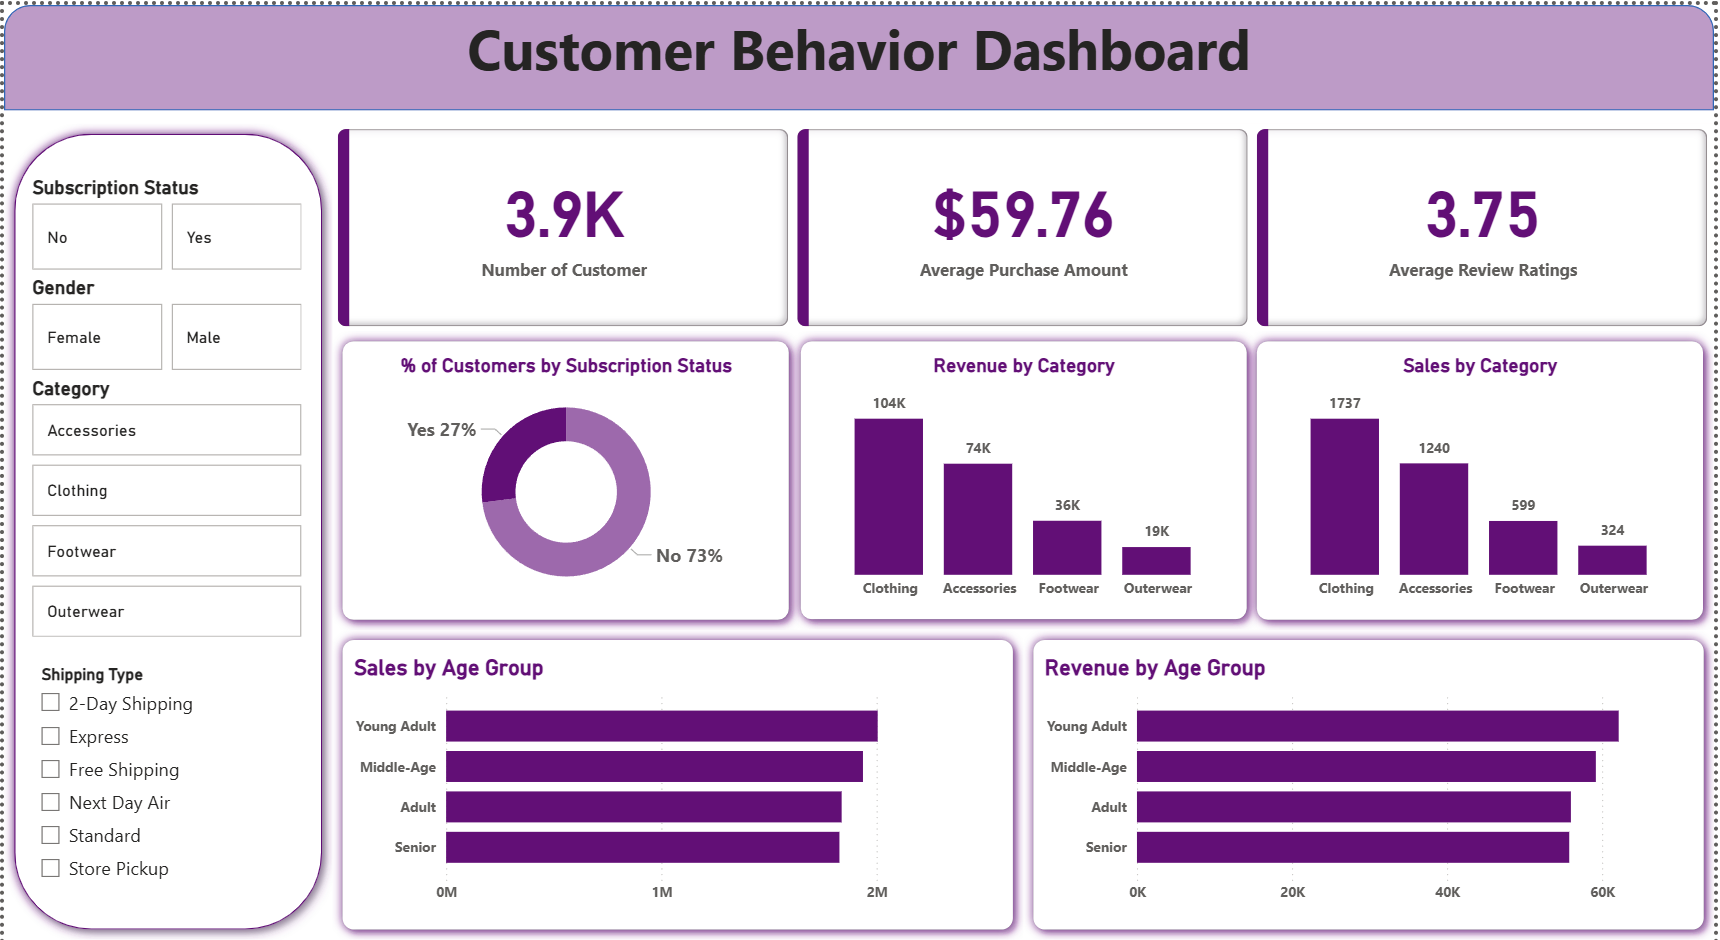

The page's visual inventory and layout, read from the dashboard file:
{"tool":"powerbi","page":{"name":"Page 1","canvas":[1500,820],"ordinal":0},"visuals":[{"type":"cardVisual","fields":{"Data":["public customer.Number of Customer","public customer.Average Purchase Amount","public customer.Average Review Ratings"]},"box":[288.7,103.8,1211.3,183],"z":0},{"type":"shape","box":[0,0,1500,92.5],"z":1},{"type":"textbox","box":[0,0,1500,79.2],"z":2},{"type":"shape","box":[288.7,286.8,409.4,262.3],"z":3},{"type":"donutChart","title":"% of Customers by Subscription Status","fields":{"Category":["public customer.subscription_status"],"Y":["CountNonNull(public customer.customer_id)"]},"box":[310,306.7,366.7,223.3],"z":4},{"type":"shape","box":[689.8,286.4,409.1,261.8],"z":5},{"type":"shape","box":[1090.6,286.8,409.4,262.3],"z":6},{"type":"clusteredColumnChart","title":"Revenue by Category","fields":{"Y":["Sum(public customer.purchase_amount)"],"Category":["public customer.category"]},"box":[710,306.7,370,225],"z":7},{"type":"clusteredColumnChart","title":"Sales by Category","fields":{"Y":["CountNonNull(public customer.customer_id)"],"Category":["public customer.category"]},"box":[1110,305,370,225],"z":8},{"type":"shape","box":[0,104,288,716],"z":9},{"type":"advancedSlicerVisual","title":"Subscription Status","fields":{"Values":["public customer.subscription_status"]},"box":[20,150,246,88],"z":10},{"type":"advancedSlicerVisual","title":"Gender","fields":{"Values":["public customer.gender"]},"box":[20,238,246,88],"z":11},{"type":"advancedSlicerVisual","title":"Category","fields":{"Values":["public customer.category"]},"box":[20,326,246,234],"z":12},{"type":"slicer","fields":{"Values":["public customer.shipping_type"]},"box":[20,574,246,204],"z":13},{"type":"shape","box":[894,548,606,272],"z":15},{"type":"shape","box":[288,548,606,272],"z":16},{"type":"clusteredBarChart","title":"Sales by Age Group","fields":{"Category":["public customer.age_group"],"Y":["Sum(public customer.customer_id)"]},"box":[302,570,578,228],"z":17},{"type":"clusteredBarChart","title":"Revenue by Age Group","fields":{"Category":["public customer.age_group"],"Y":["Sum(public customer.purchase_amount)"]},"box":[908,570,578,228],"z":18}]}

Visuals, with their boxes in screenshot pixels (x1, y1, x2, y2), scaled from the page's 1500x820 canvas onto the 1720x940 screenshot:
cardVisual - public customer.Number of Customer x public customer.Average Purchase Amount: x1=331 y1=119 x2=1719 y2=329
shape: x1=0 y1=0 x2=1719 y2=106
textbox: x1=0 y1=0 x2=1719 y2=91
shape: x1=331 y1=329 x2=800 y2=629
"% of Customers by Subscription Status" donutChart: x1=355 y1=352 x2=776 y2=608
shape: x1=791 y1=328 x2=1260 y2=628
shape: x1=1251 y1=329 x2=1719 y2=629
"Revenue by Category" clusteredColumnChart: x1=814 y1=352 x2=1238 y2=610
"Sales by Category" clusteredColumnChart: x1=1273 y1=350 x2=1697 y2=608
shape: x1=0 y1=119 x2=330 y2=939
"Subscription Status" advancedSlicerVisual: x1=23 y1=172 x2=305 y2=273
"Gender" advancedSlicerVisual: x1=23 y1=273 x2=305 y2=374
"Category" advancedSlicerVisual: x1=23 y1=374 x2=305 y2=642
slicer - public customer.shipping_type: x1=23 y1=658 x2=305 y2=892
shape: x1=1025 y1=628 x2=1719 y2=939
shape: x1=330 y1=628 x2=1025 y2=939
"Sales by Age Group" clusteredBarChart: x1=346 y1=653 x2=1009 y2=915
"Revenue by Age Group" clusteredBarChart: x1=1041 y1=653 x2=1704 y2=915
